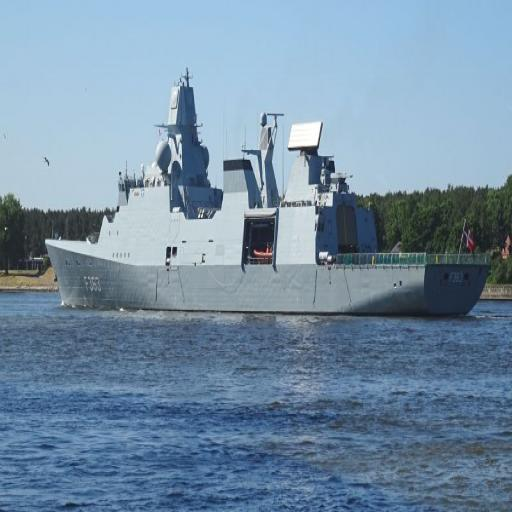Fragata: (44, 67, 495, 317)
